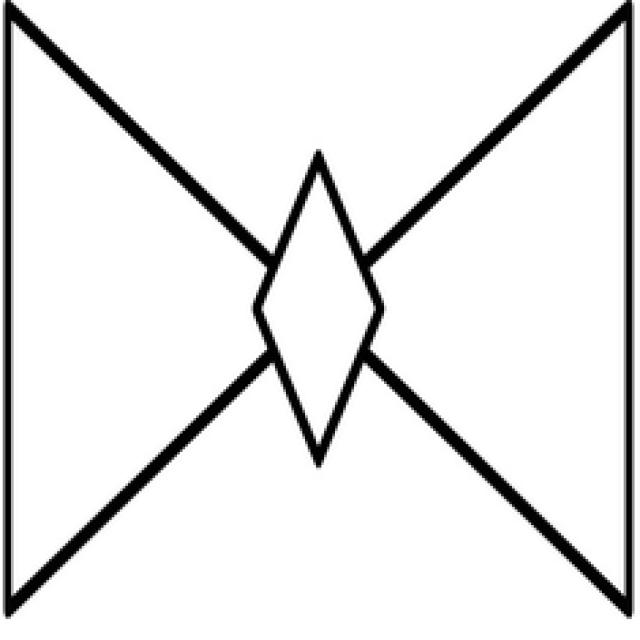Plug Valve: (5, 0, 635, 611)
